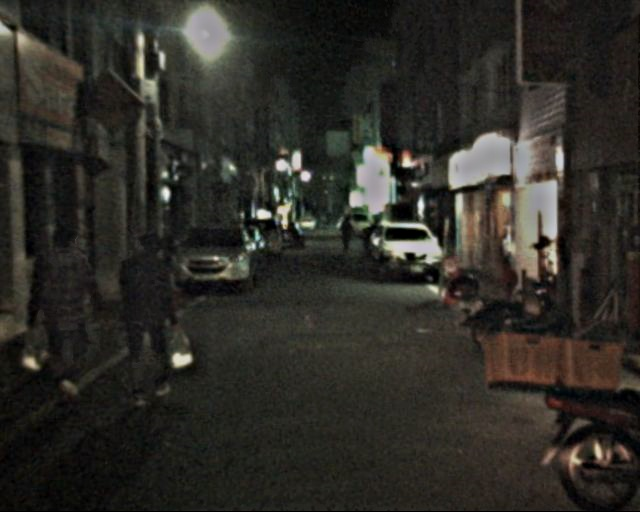person: (33, 222, 106, 403), (112, 229, 183, 407), (340, 216, 354, 253)
